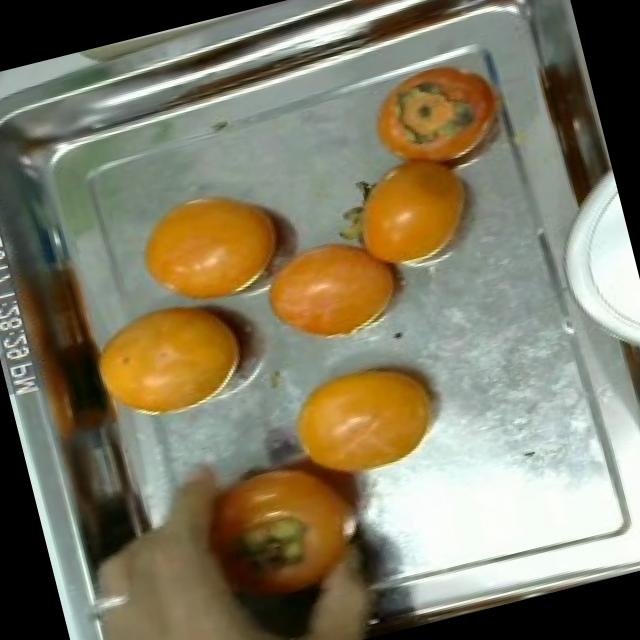Fruit: (65, 276, 278, 444), (268, 337, 467, 500), (346, 36, 532, 203), (238, 210, 428, 366), (118, 167, 302, 320), (330, 134, 500, 285), (508, 41, 622, 224)
